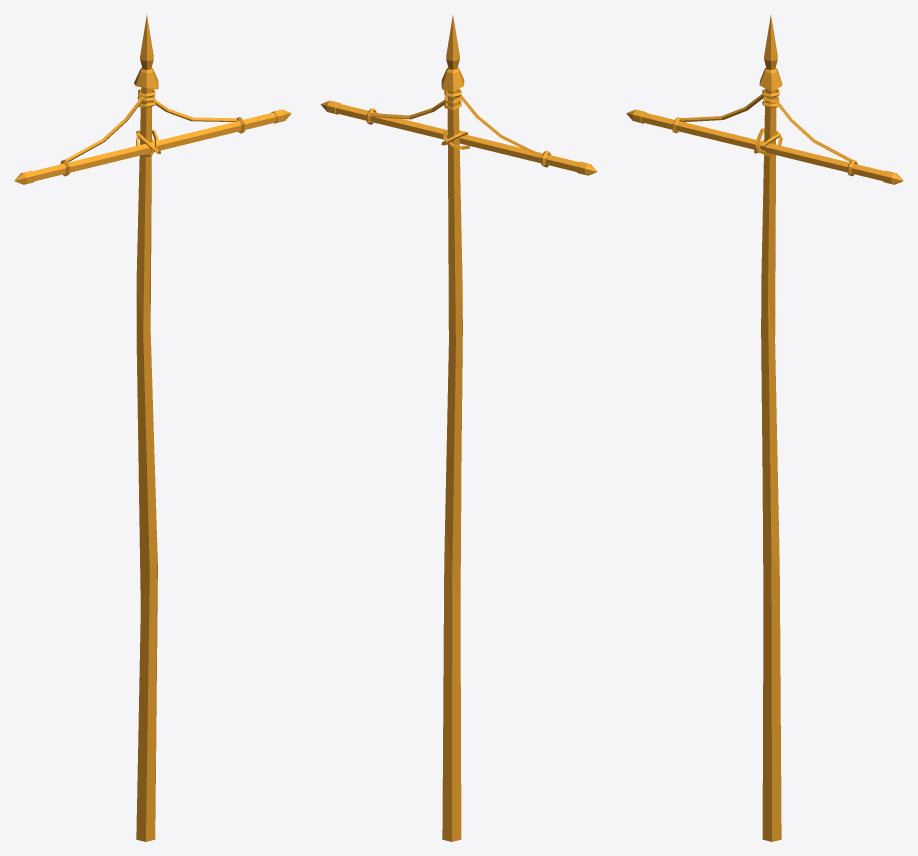
The model's file is SM_Flag_Stand_Wood_T_A_Fantasy.fbx.
3 views of the same model, side by side, from view 1: azimuth 30°, elevation 25°; view 2: azimuth 150°, elevation 25°; view 3: azimuth 330°, elevation 25° (orthographic).
Parts seen in each view (by area): view 1: flag-stand-wood-t-a-fantasy; view 2: flag-stand-wood-t-a-fantasy; view 3: flag-stand-wood-t-a-fantasy.
Part boxes in pixels (x1=…): flag-stand-wood-t-a-fantasy: x1=14, y1=15, x2=291, y2=841; flag-stand-wood-t-a-fantasy: x1=320, y1=15, x2=597, y2=841; flag-stand-wood-t-a-fantasy: x1=626, y1=15, x2=903, y2=841.
Size of the model in its own units: 1.59 by 4.5 by 0.1874.
